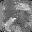people: (4, 17, 16, 31)
